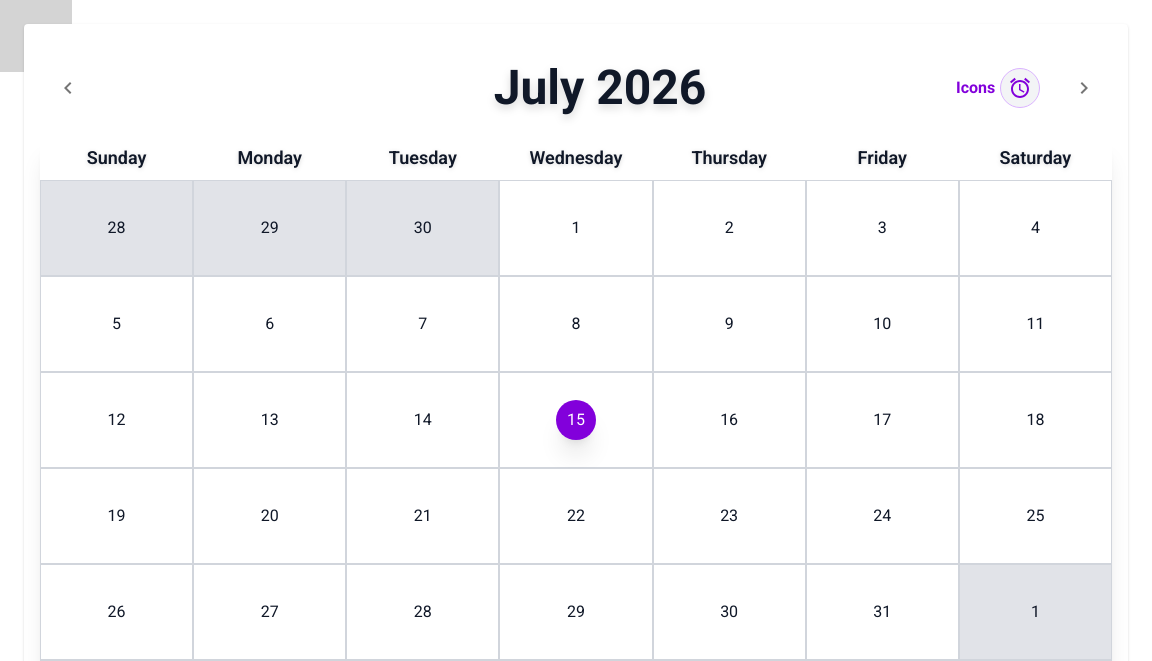
calendar month navigation › moves between adjacent months through the calendar controls
Expected: the heading "July 2026" is shown, [494,59,706,116]
Click the button named "Next Month": click(1084, 88) [1056,60,1112,116]
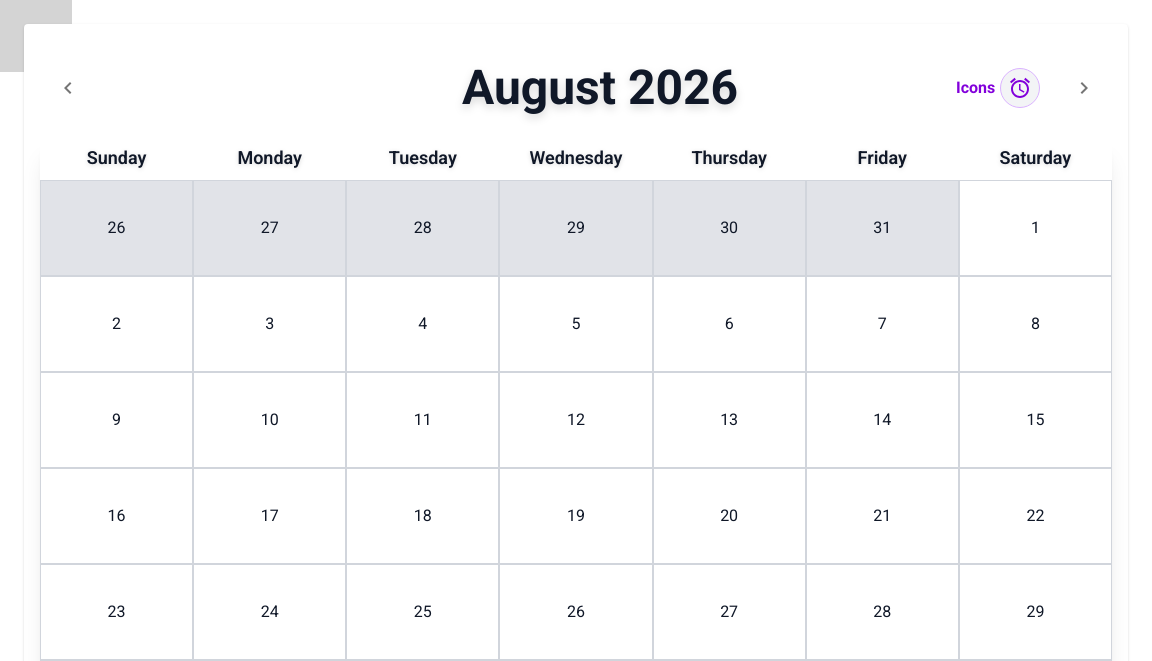
Result: the heading "August 2026" is shown at [462,59,738,116]
Click the button named "Previous Month": click(68, 88) [40,60,96,116]
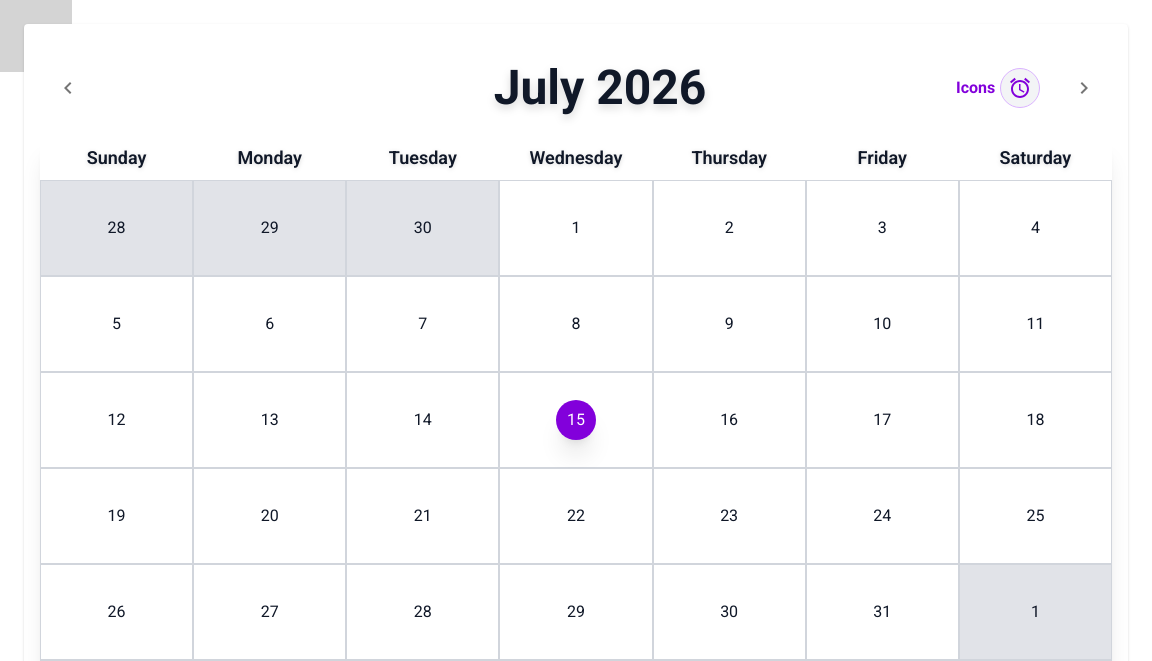
Click the button named "Previous Month": click(68, 88) [40,60,96,116]
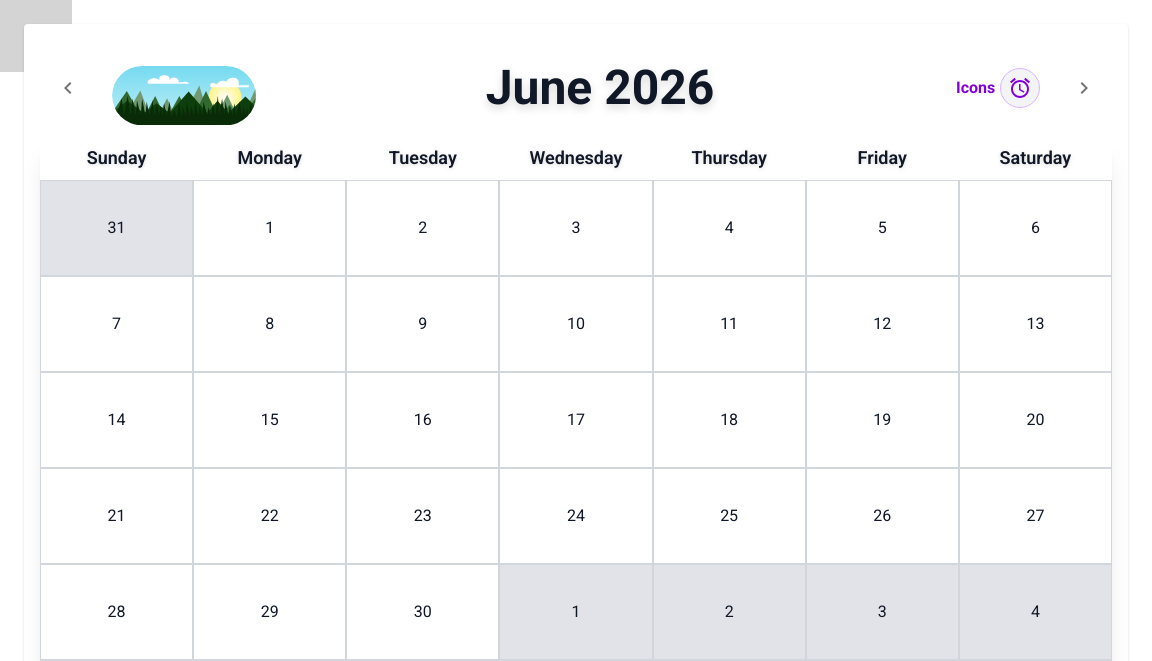
Result: the heading "June 2026" is shown at [486,59,714,116]
